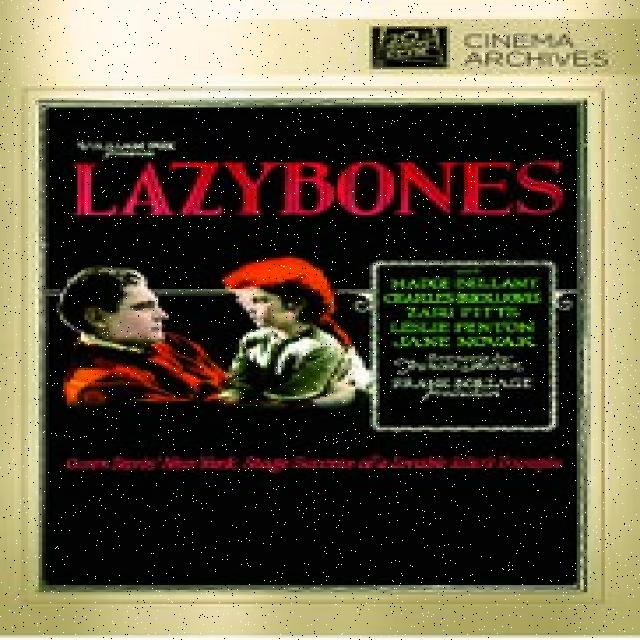movie-judul: (56, 132, 570, 226)
picture: (21, 87, 590, 599)
